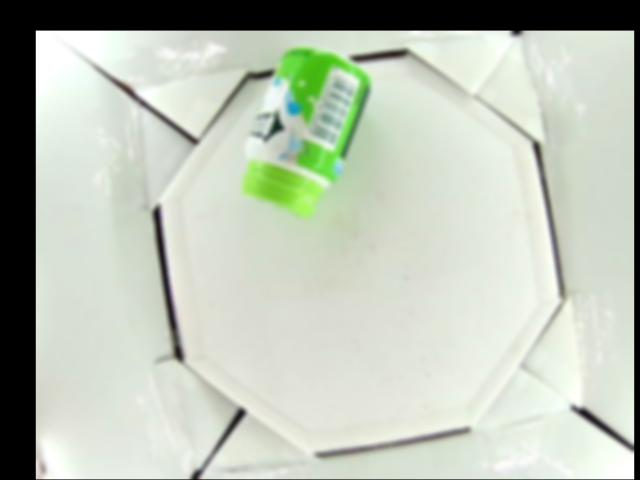Bottle: (244, 48, 371, 218)
